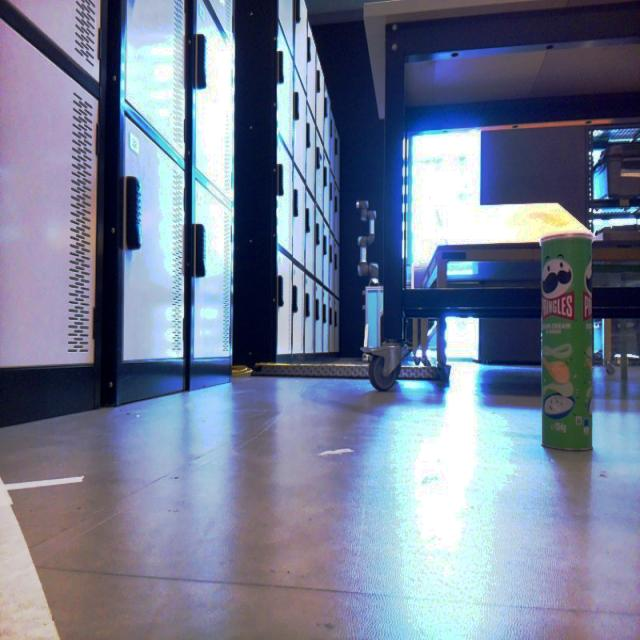greenpringles: (529, 225, 610, 478)
